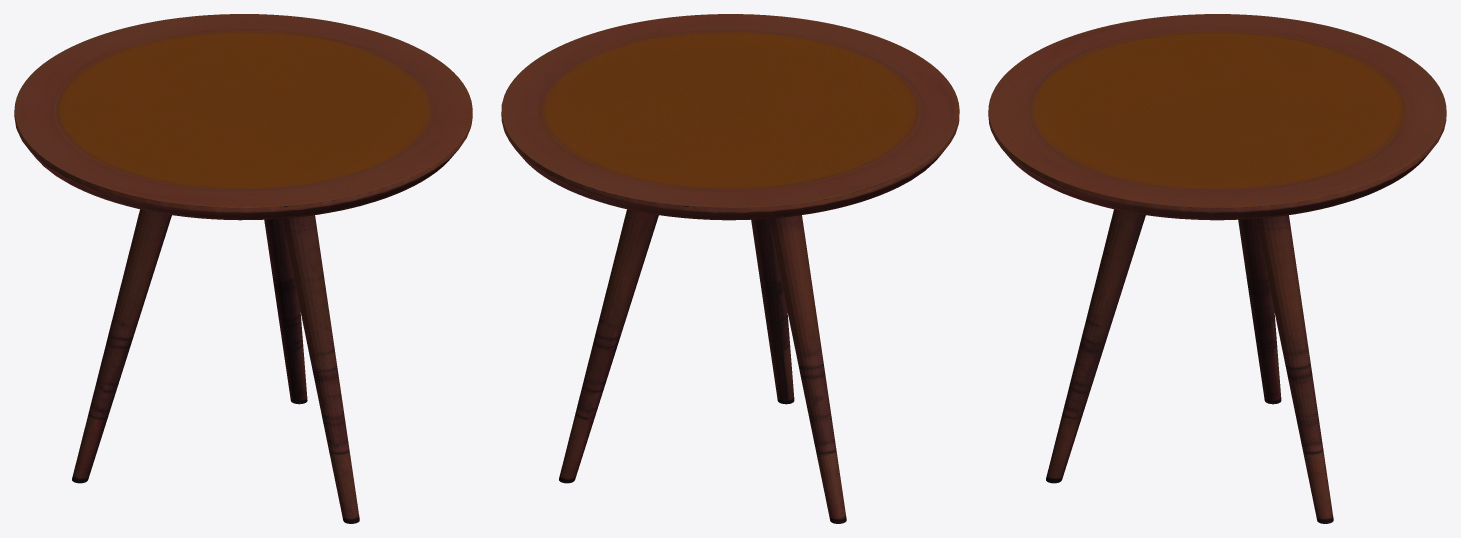
Rendered from edited_mesh.glb.
The picture shows the model from 3 angles, left to right: view 1: azimuth 30°, elevation 25°; view 2: azimuth 150°, elevation 25°; view 3: azimuth 270°, elevation 25°; orthographic projection.
Parts seen in each view (by area): view 1: normalized_model.obj; view 2: normalized_model.obj; view 3: normalized_model.obj.
Boxes of the visible parts, <box> form: normalized_model.obj: <box>14,14,472,523</box>; normalized_model.obj: <box>501,14,959,523</box>; normalized_model.obj: <box>988,14,1446,523</box>.
Size of the model in its own units: 1.47 by 1.26 by 1.47.
Materials: 1 (1 with a texture image).
